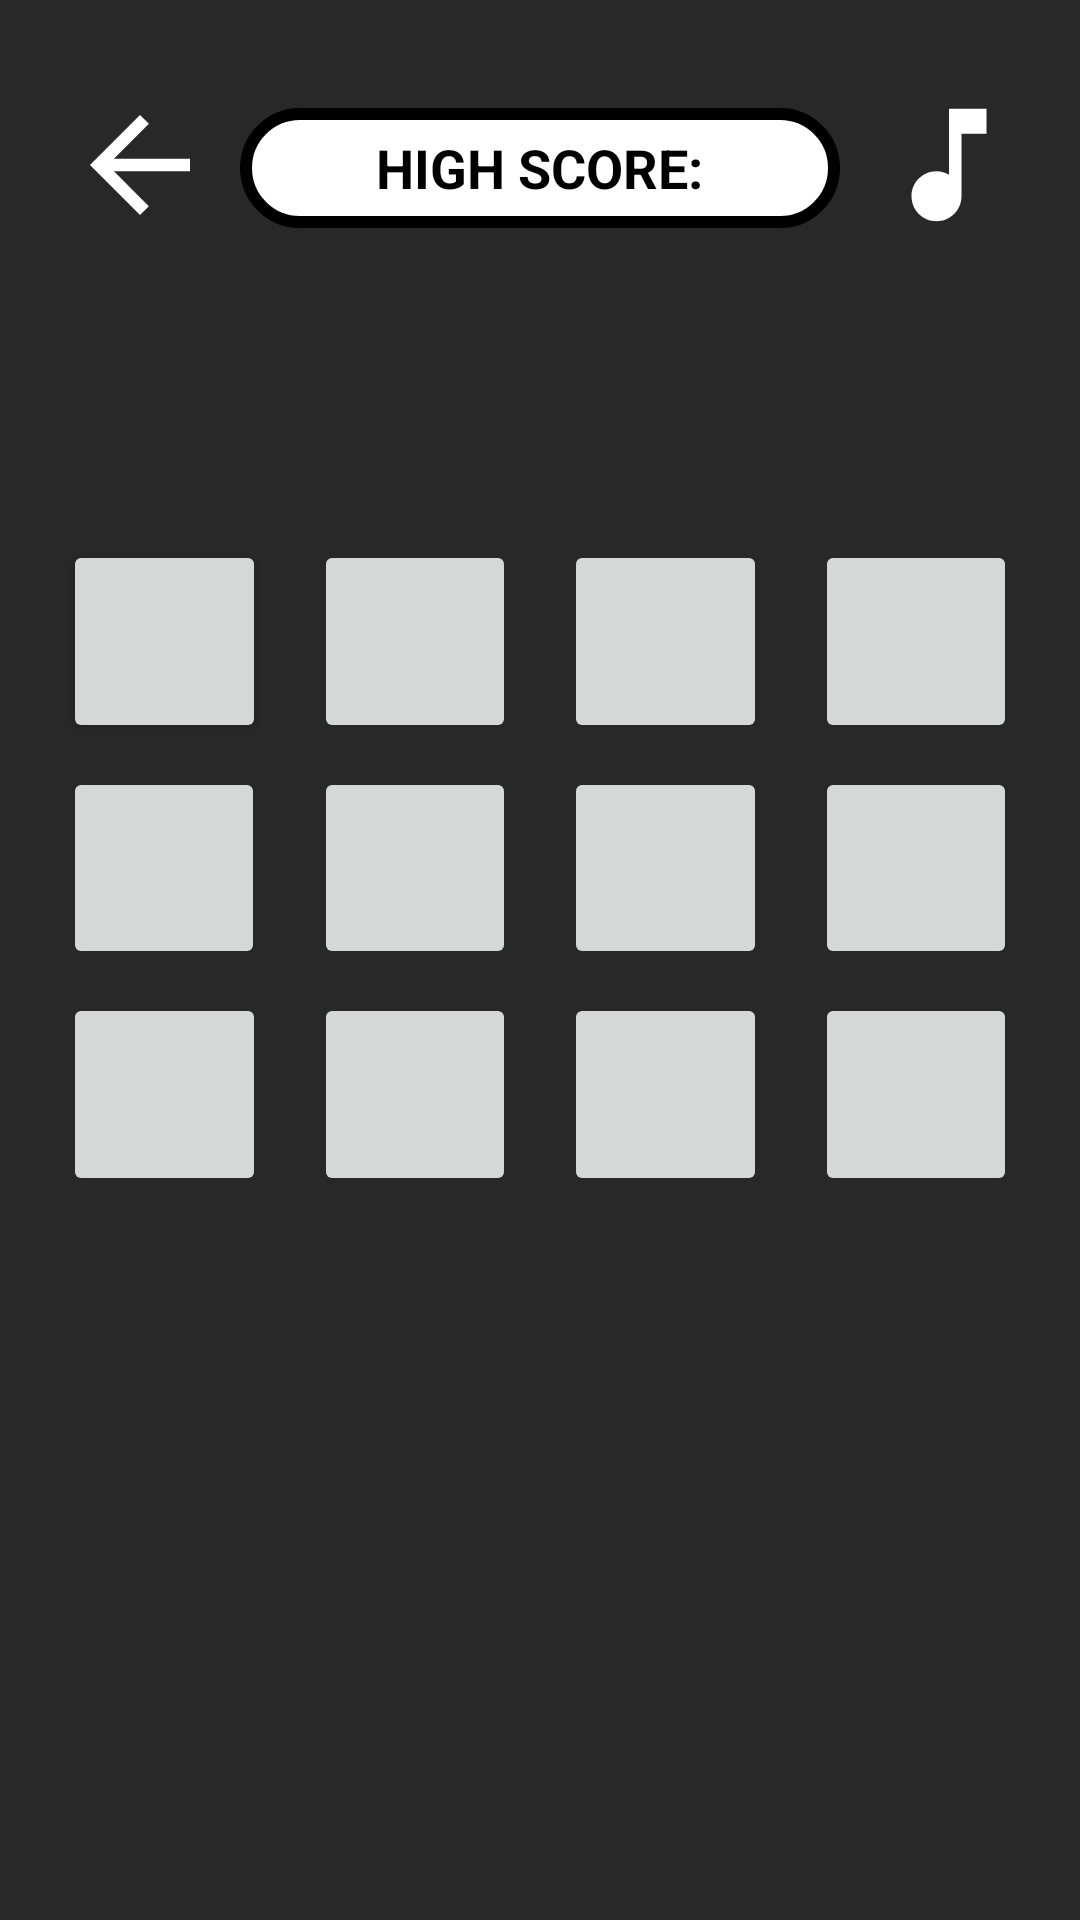

Icons on this 1080×1920 Android screen, each with its box as (x1, y1, x2, y2):
arrow back: (90, 115, 190, 215)
